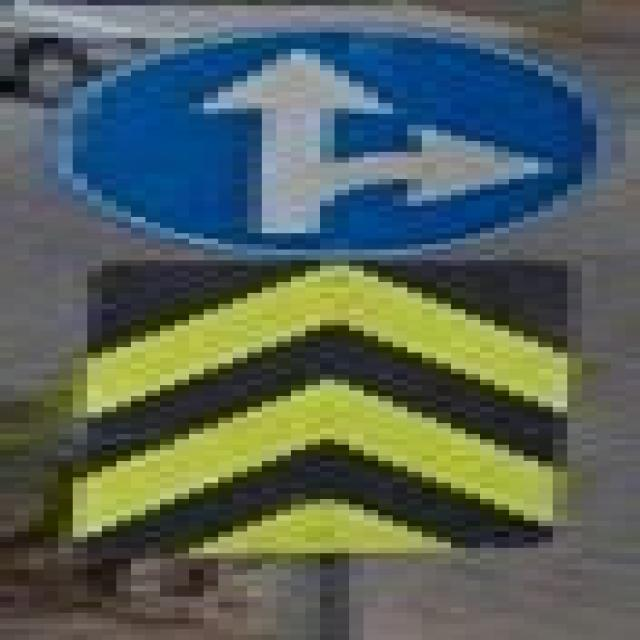Straight or Right: (60, 39, 598, 261)
